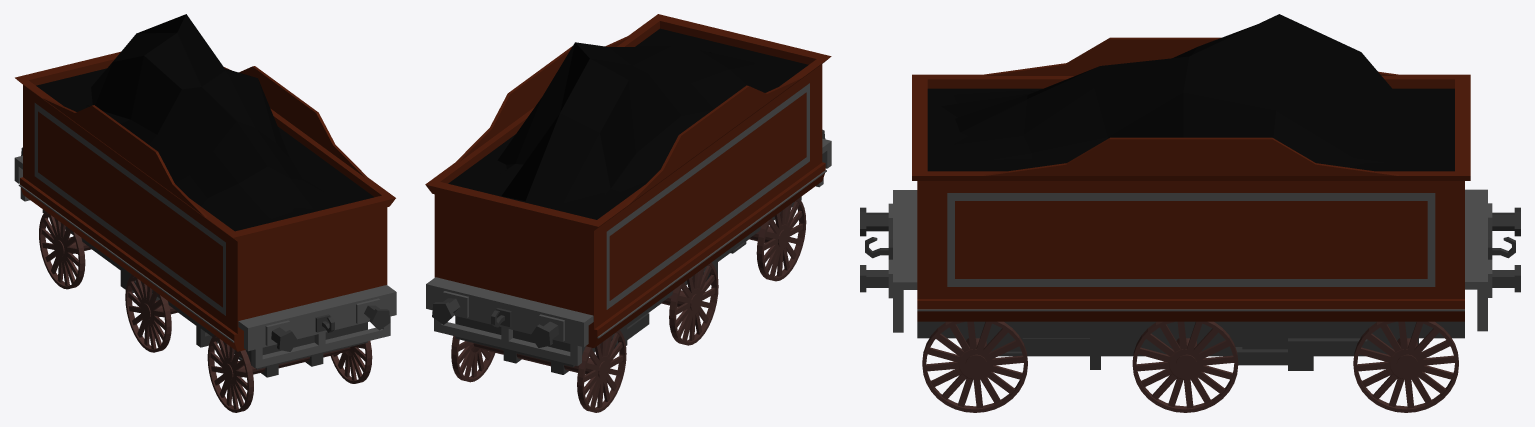
The model's file is Train-TenderOutside.fbx.
The picture shows the model from 3 angles, left to right: view 1: azimuth 30°, elevation 25°; view 2: azimuth 150°, elevation 25°; view 3: azimuth 270°, elevation 25°; orthographic projection. The views are drawn at different scales.
Visible parts, largest first — view 1: TenderCar, TenderWheelBack, TenderWheelMiddle, TenderWheelFront; view 2: TenderCar, TenderWheelFront, TenderWheelMiddle, TenderWheelBack; view 3: TenderCar, TenderWheelFront, TenderWheelBack, TenderWheelMiddle.
Boxes of the visible parts, left/top/right/bottom form: TenderCar: left=14, top=14, right=396, bottom=377; TenderWheelBack: left=207, top=335, right=372, bottom=412; TenderWheelMiddle: left=125, top=275, right=178, bottom=352; TenderWheelFront: left=39, top=211, right=91, bottom=289; TenderCar: left=425, top=14, right=831, bottom=374; TenderWheelFront: left=451, top=330, right=626, bottom=412; TenderWheelMiddle: left=661, top=262, right=718, bottom=345; TenderWheelBack: left=748, top=198, right=806, bottom=281; TenderCar: left=860, top=14, right=1520, bottom=370; TenderWheelFront: left=1353, top=321, right=1458, bottom=412; TenderWheelBack: left=922, top=321, right=1027, bottom=412; TenderWheelMiddle: left=1132, top=321, right=1238, bottom=412.
Size of the model in its own units: 376 by 639 by 1033.
